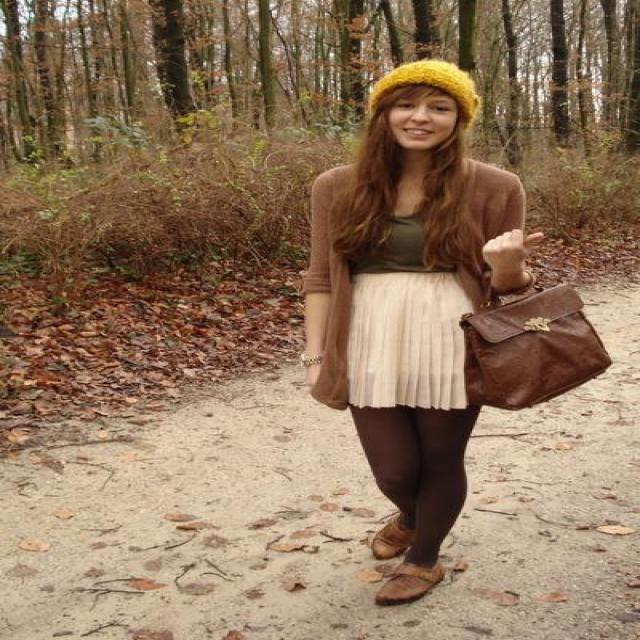bag: (459, 269, 611, 412)
hat: (379, 59, 482, 114)
jacket: (293, 152, 531, 408)
shoe: (326, 508, 464, 607)
skirt: (341, 236, 472, 410)
